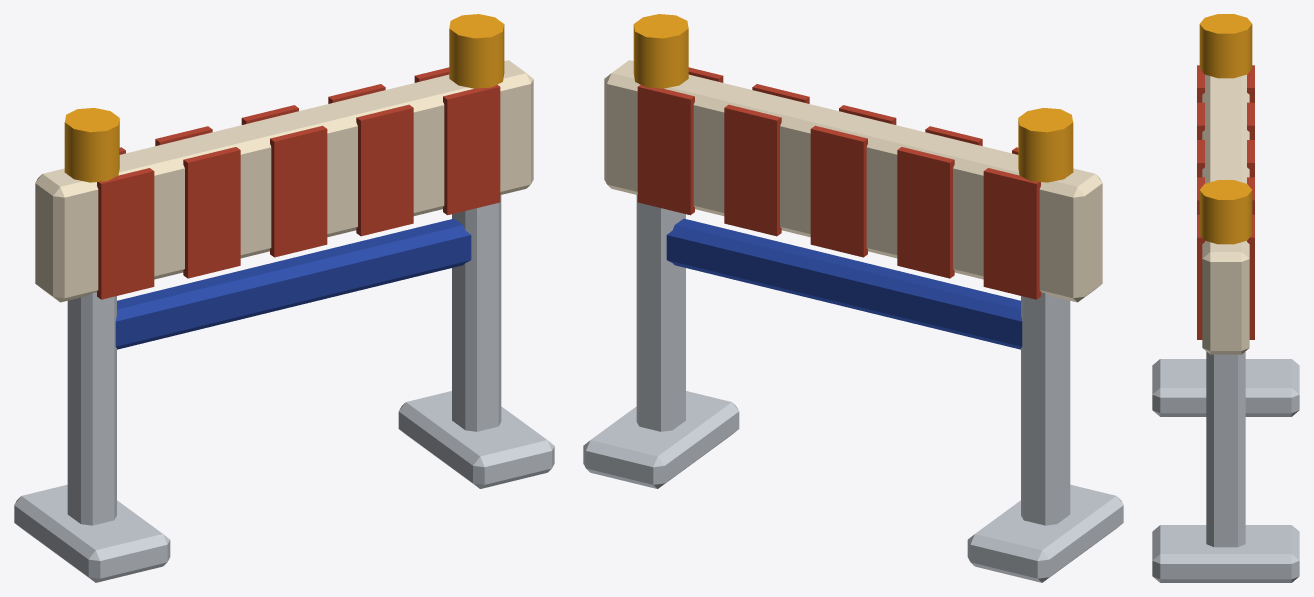
File: barrier.obj
The picture shows the model from 3 angles, left to right: view 1: azimuth 30°, elevation 25°; view 2: azimuth 150°, elevation 25°; view 3: azimuth 270°, elevation 25°; orthographic projection. The views are drawn at different scales.
Visible parts, largest first — view 1: board, rail_low, leg_l, leg_r, foot_l, foot_r, stripe_2_f, stripe_4_f, stripe_0_f, stripe_1_f, stripe_3_f, lamp_l (+1 smaller); view 2: board, rail_low, leg_l, leg_r, foot_l, foot_r, stripe_2_b, stripe_4_b, stripe_0_b, stripe_1_b, stripe_3_b, lamp_l (+1 smaller); view 3: board, leg_r, foot_r, foot_l, lamp_l, lamp_r, stripe_4_f, stripe_4_b, stripe_1_f, stripe_1_b, stripe_2_f, stripe_2_b (+2 smaller).
Boxes of the visible parts, x1,y1,x2,y2 form: board: (35,60,533,302); rail_low: (115,218,471,349); leg_l: (67,292,116,525); leg_r: (452,195,501,431); foot_l: (14,484,170,582); foot_r: (398,391,554,488); stripe_2_f: (270,125,327,257); stripe_4_f: (443,84,500,215); stripe_0_f: (97,168,154,299); stripe_1_f: (183,147,240,278); stripe_3_f: (356,104,413,236); lamp_l: (64,108,119,182); board: (604,60,1102,302); rail_low: (666,218,1022,349); leg_l: (1021,292,1070,525); leg_r: (636,195,685,431); foot_l: (967,484,1123,582); foot_r: (583,391,739,488); stripe_2_b: (810,125,867,257); stripe_4_b: (637,84,694,215); stripe_0_b: (983,168,1040,299); stripe_1_b: (897,147,954,278); stripe_3_b: (724,104,781,236); lamp_l: (1018,108,1073,182); board: (1202,74,1249,354); leg_r: (1206,351,1245,547); foot_r: (1152,525,1299,582); foot_l: (1152,359,1299,416); lamp_l: (1199,14,1252,78); lamp_r: (1199,180,1252,244); stripe_4_f: (1197,214,1204,339); stripe_4_b: (1247,214,1254,339); stripe_1_f: (1197,102,1204,139); stripe_1_b: (1247,102,1254,139); stripe_2_f: (1197,140,1204,177); stripe_2_b: (1247,140,1254,177).
Size of the model in its own units: 2 by 1.7 by 0.6.
